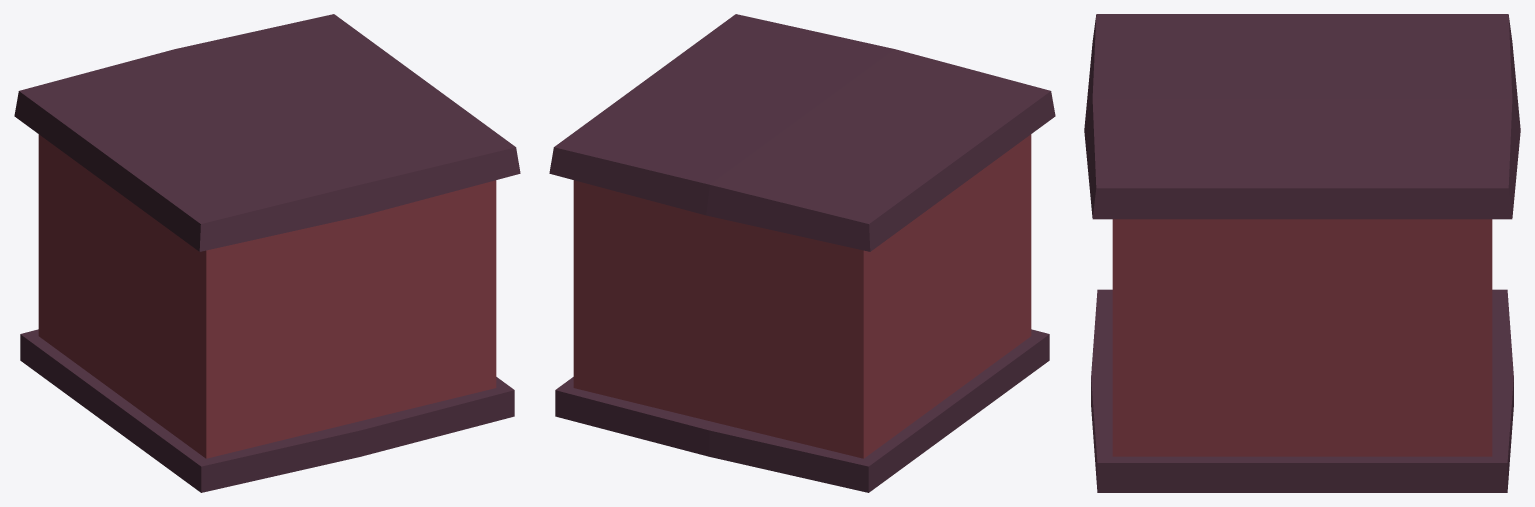
File: platform_01.fbx
3 views of the same model, side by side, from view 1: azimuth 30°, elevation 25°; view 2: azimuth 150°, elevation 25°; view 3: azimuth 270°, elevation 25° (orthographic). The views are drawn at different scales.
Visible parts, largest first — view 1: Platform; view 2: Platform; view 3: Platform.
Boxes of the visible parts, bbox=[...] form: Platform: bbox=[14, 14, 520, 492]; Platform: bbox=[549, 14, 1055, 492]; Platform: bbox=[1084, 14, 1520, 492].
Size of the model in its own units: 221 by 179 by 230.
